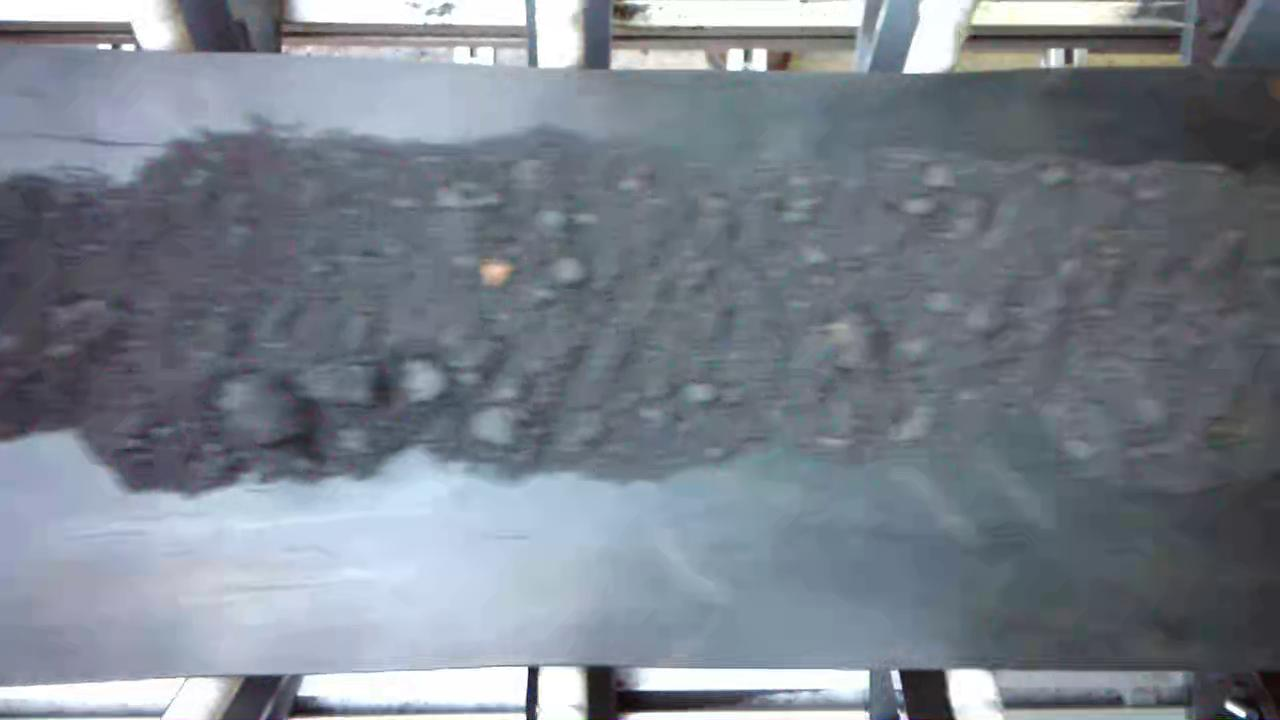conveyor: (3, 81, 1280, 661)
